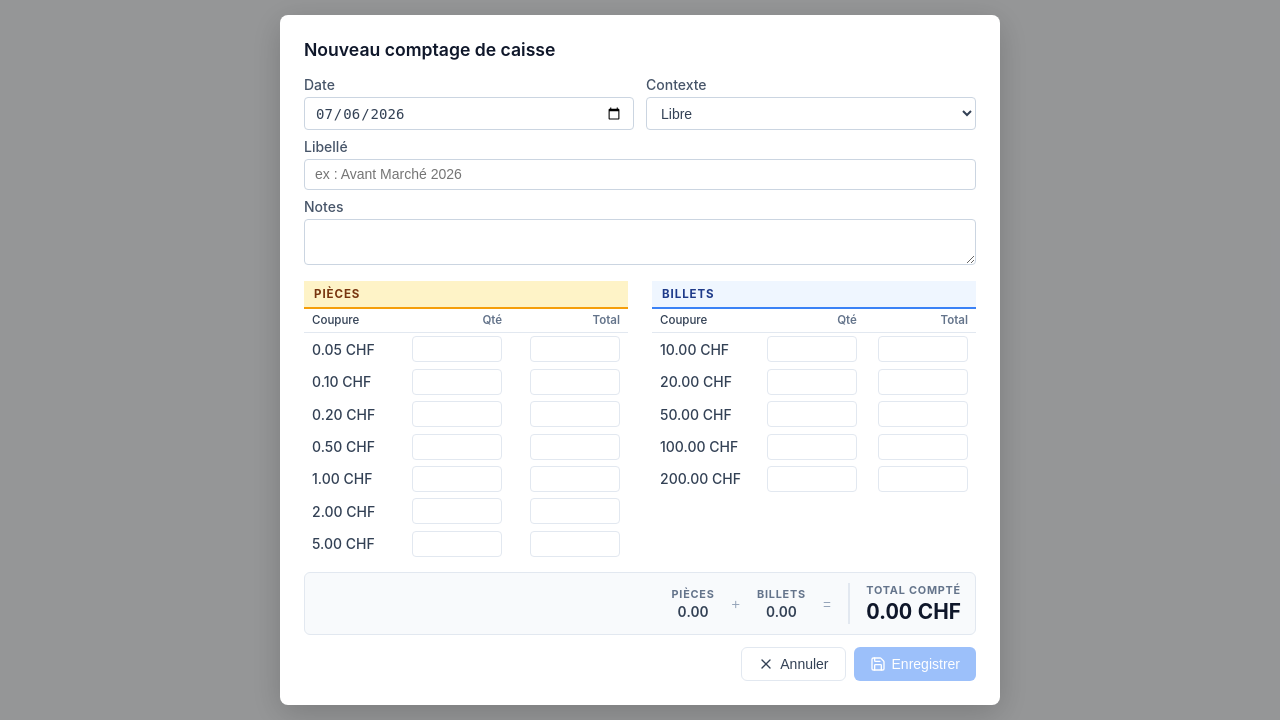
Scenario: CashCountModal › saisir un total met à jour la quantité (floor) après blur
This screenshot has width=1280, height=720.
Type "15" into the field with test id "total-200" at (575, 511), box [530,498,620,524]
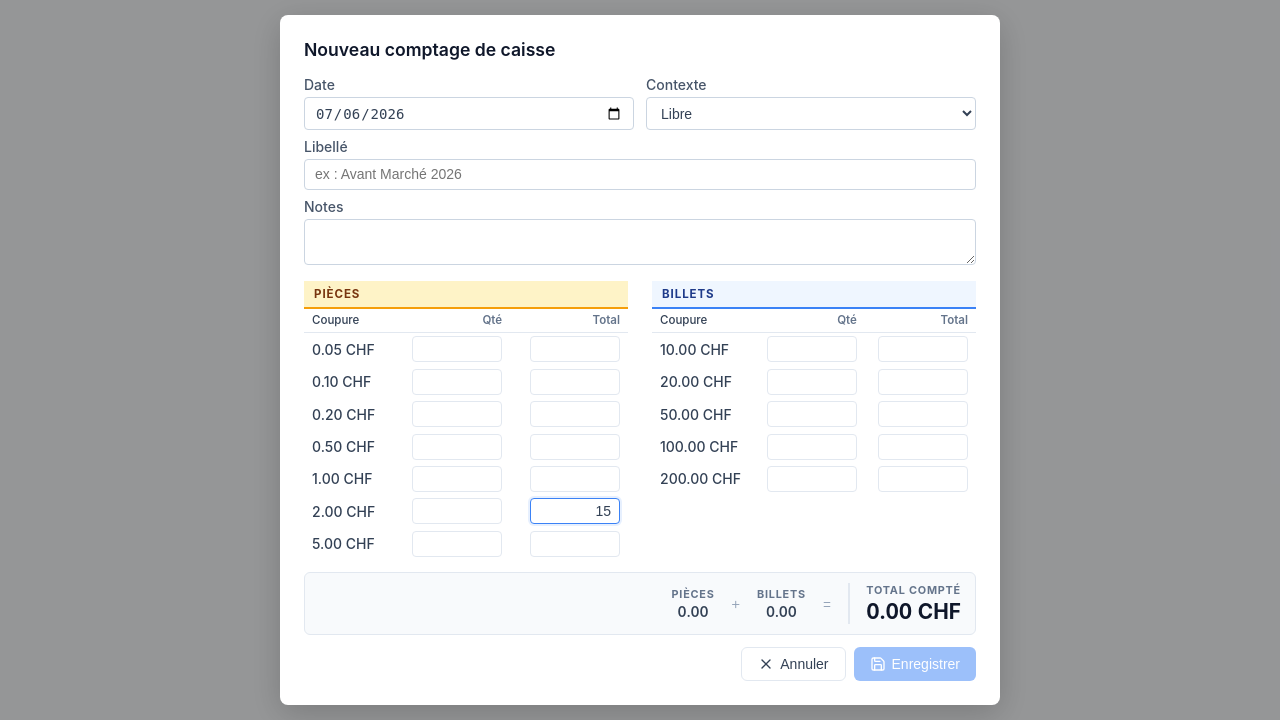
# La quantité ne se calcule qu'à la sortie du champ (onBlur)
Press Tab
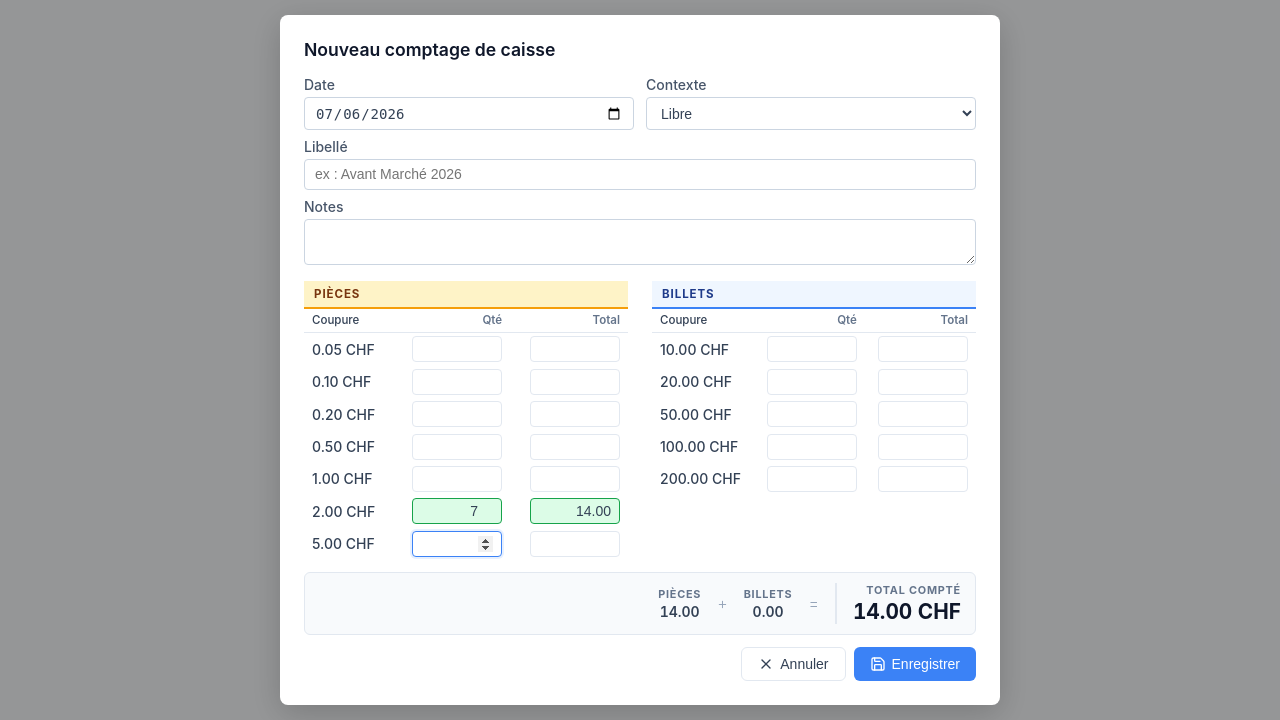
Expected: the number field with test id "qty-200" holds "7", [412,498,502,524]
Expected: the field with test id "total-200" holds "14.00", [530,498,620,524]
